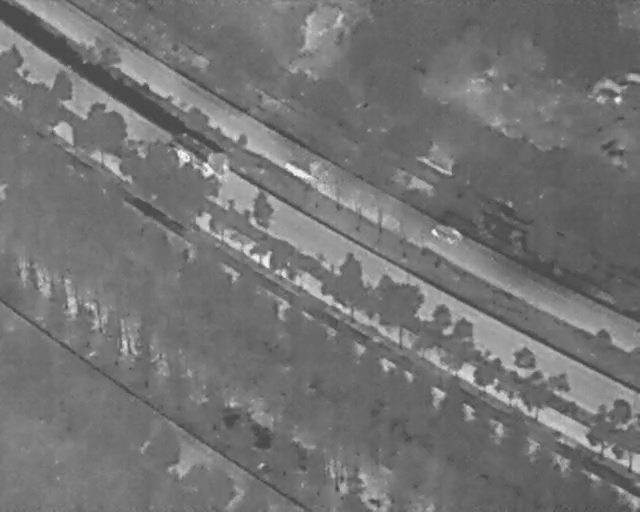Car: (428, 217, 466, 249)
OtherVehicle: (161, 124, 232, 188)
